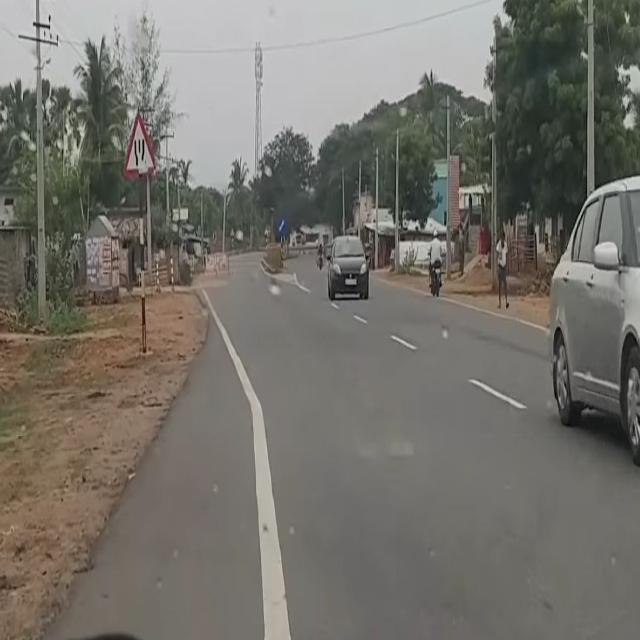start_of_dual_carriageway: (126, 112, 155, 174)
